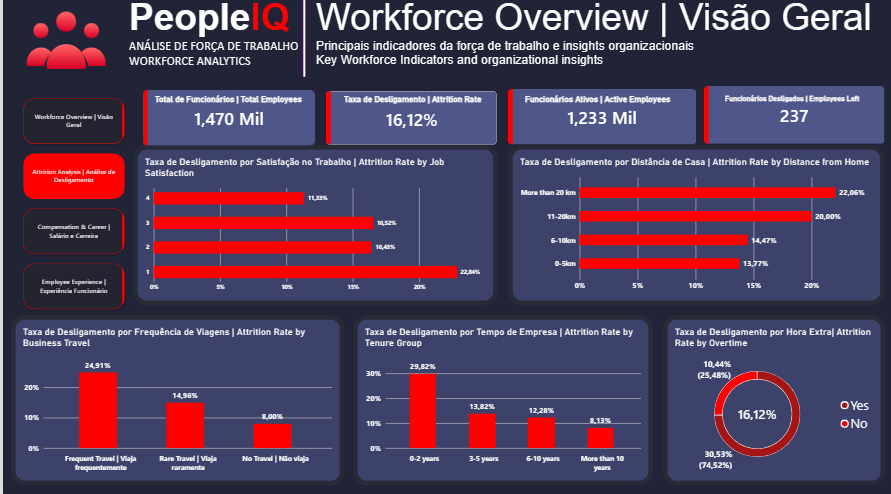

The dashboard page shown, as its layout file describes it:
{"tool":"powerbi","page":{"name":"Attririon Analysis | Análise de Desligamento","canvas":[1920,1080],"ordinal":1},"visuals":[{"type":"donutChart","title":"Taxa de Desligamento por Hora Extra| Attrition Rate by Overtime","fields":{"Category":["analytics vw_dashboard_workforce.over_time"],"Y":["analytics vw_dashboard_workforce.Attrition Rate"]},"box":[1425,690,480,367.5],"z":0},{"type":"barChart","title":"Taxa de Desligamento por Satisfação no Trabalho | Attrition Rate by Job Satisfaction","fields":{"Category":["analytics vw_dashboard_workforce.job_satisfaction"],"Y":["analytics vw_dashboard_workforce.Attrition Rate"]},"box":[280,322.5,788.4,345.6],"z":1000},{"type":"columnChart","title":"Taxa de Desligamento por Frequência de Viagens | Attrition Rate by Business Travel","fields":{"Category":["analytics vw_dashboard_workforce.Business Travel PT EN"],"Y":["analytics vw_dashboard_workforce.Attrition Rate"]},"box":[17.5,690,720,367.5],"z":2000},{"type":"columnChart","title":"Taxa de Desligamento por Tempo de Empresa | Attrition Rate by Tenure Group","fields":{"Category":["analytics vw_dashboard_workforce.Tenure Groupe"],"Y":["analytics vw_dashboard_workforce.Attrition Rate"]},"box":[755,690,647.5,367.5],"z":3000},{"type":"barChart","title":"Taxa de Desligamento por Distância de Casa | Attrition Rate by Distance from Home","fields":{"Category":["analytics vw_dashboard_workforce.Distance Group"],"Y":["analytics vw_dashboard_workforce.Attrition Rate"]},"box":[1090,322.5,814.3,345.6],"z":4000},{"type":"cardVisual","title":"Total de Funcionários","fields":{"Data":["analytics vw_dashboard_workforce.Total Employee"]},"box":[302.5,202.5,372.5,120],"z":6000},{"type":"cardVisual","title":"Funcionários Desligados","fields":{"Data":["analytics vw_dashboard_workforce.Employees Left"]},"box":[1515,195,391,125.3],"z":7000},{"type":"shape","title":"Total de Funcionários | Total Employees","box":[327.5,212.5,326.2,28.1],"z":8000},{"type":"shape","title":"Funcionários Desligados | Employees Left","box":[1559.5,211.7,330.5,28.1],"z":9000},{"type":"cardVisual","title":"Taxa de desligamento","fields":{"Data":["analytics vw_dashboard_workforce.Attrition Rate"]},"box":[697.5,205,369.4,116.6],"z":11000},{"type":"shape","title":"Taxa de Desligamento | Attrition Rate","box":[737.5,212.5,301.4,28.6],"z":12000},{"type":"cardVisual","title":"Funcionários Ativos","fields":{"Data":["analytics vw_dashboard_workforce.Attrition Employees"]},"box":[1090,200,407.5,120],"z":13000},{"type":"shape","title":"Funcionários Ativos | Active Employees","box":[1127.5,212.5,334.8,28.1],"z":14000},{"type":"pageNavigator","box":[35,212.5,237.8,477.8],"z":14001},{"type":"image","box":[0,5,272.5,197.5],"z":14002},{"type":"textbox","box":[272.5,0,380,202.5],"z":14003},{"type":"shape","box":[622.5,0,57.5,182.5],"z":14004},{"type":"textbox","box":[675,0,1245,182.5],"z":14005}]}

Visuals, with their boxes in screenshot pixels (x1, y1, x2, y2), scaled from the page's 1920x1080 canvas onto the 891x494 screenshot:
"Taxa de Desligamento por Hora Extra| Attrition Rate by Overtime" donutChart: 661,316,884,484
"Taxa de Desligamento por Satisfação no Trabalho | Attrition Rate by Job Satisfaction" barChart: 130,148,496,306
"Taxa de Desligamento por Frequência de Viagens | Attrition Rate by Business Travel" columnChart: 8,316,342,484
"Taxa de Desligamento por Tempo de Empresa | Attrition Rate by Tenure Group" columnChart: 350,316,651,484
"Taxa de Desligamento por Distância de Casa | Attrition Rate by Distance from Home" barChart: 506,148,884,306
"Total de Funcionários" cardVisual: 140,93,313,148
"Funcionários Desligados" cardVisual: 703,89,885,147
"Total de Funcionários | Total Employees" shape: 152,97,303,110
"Funcionários Desligados | Employees Left" shape: 724,97,877,110
"Taxa de desligamento" cardVisual: 324,94,495,147
"Taxa de Desligamento | Attrition Rate" shape: 342,97,482,110
"Funcionários Ativos" cardVisual: 506,91,695,146
"Funcionários Ativos | Active Employees" shape: 523,97,679,110
pageNavigator: 16,97,127,316
image: 0,2,126,93
textbox: 126,0,303,93
shape: 289,0,316,83
textbox: 313,0,890,83
